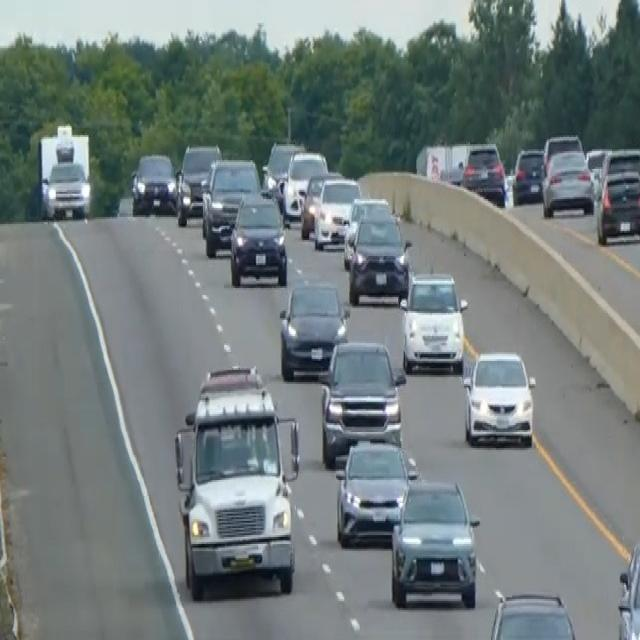car: (389, 476, 480, 608), (319, 338, 406, 466), (334, 436, 419, 546), (462, 347, 536, 448), (278, 278, 349, 380), (399, 271, 467, 374), (200, 155, 261, 256), (347, 212, 411, 306), (228, 190, 288, 286), (486, 587, 578, 638), (174, 140, 221, 226), (540, 147, 594, 217), (312, 174, 360, 249), (281, 148, 328, 224), (595, 166, 639, 246), (342, 194, 390, 266), (299, 169, 343, 238), (130, 151, 177, 215), (462, 143, 506, 205), (261, 139, 302, 199), (616, 535, 639, 638), (511, 146, 544, 204), (541, 132, 583, 172), (584, 146, 609, 196)
lorry: (172, 363, 302, 599)
